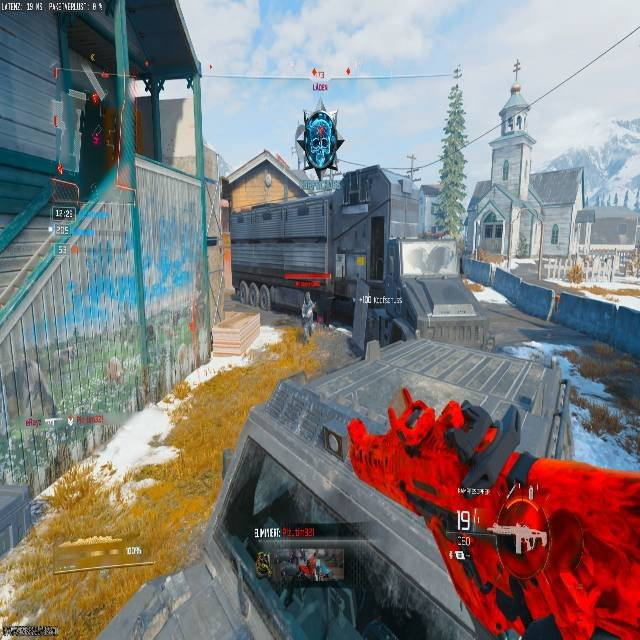head: (305, 294, 312, 303)
player: (300, 295, 315, 340)
